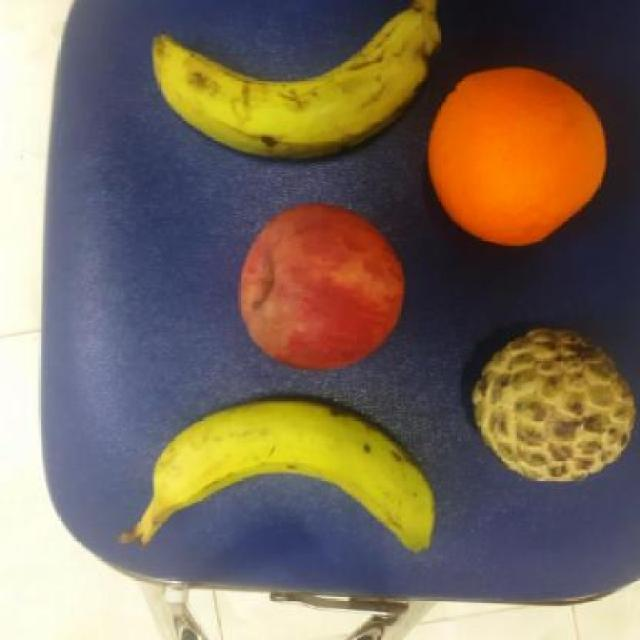apple: (237, 202, 406, 376)
banana: (128, 394, 442, 552), (150, 0, 444, 168)
oren: (425, 65, 610, 253)
sugar apple: (470, 323, 638, 486)
